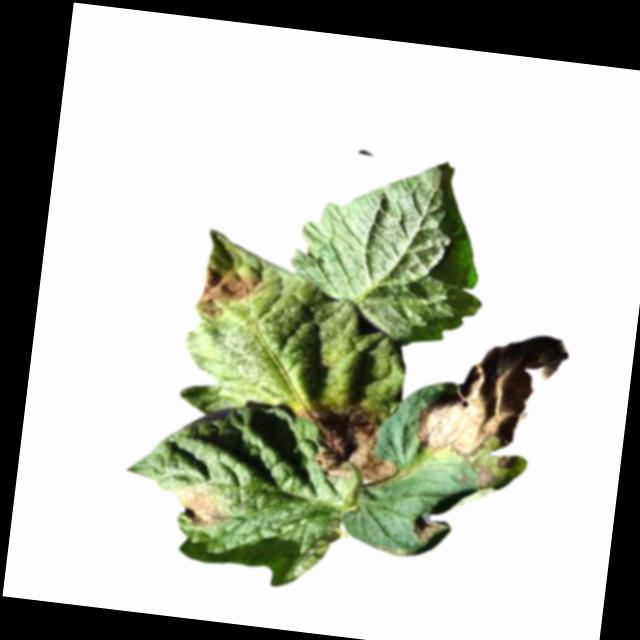Late_blight: (415, 321, 573, 466), (287, 397, 406, 489), (171, 475, 240, 535), (193, 262, 260, 322), (408, 510, 446, 543), (473, 464, 498, 497), (496, 451, 518, 468)
healthy: (279, 144, 499, 354)
